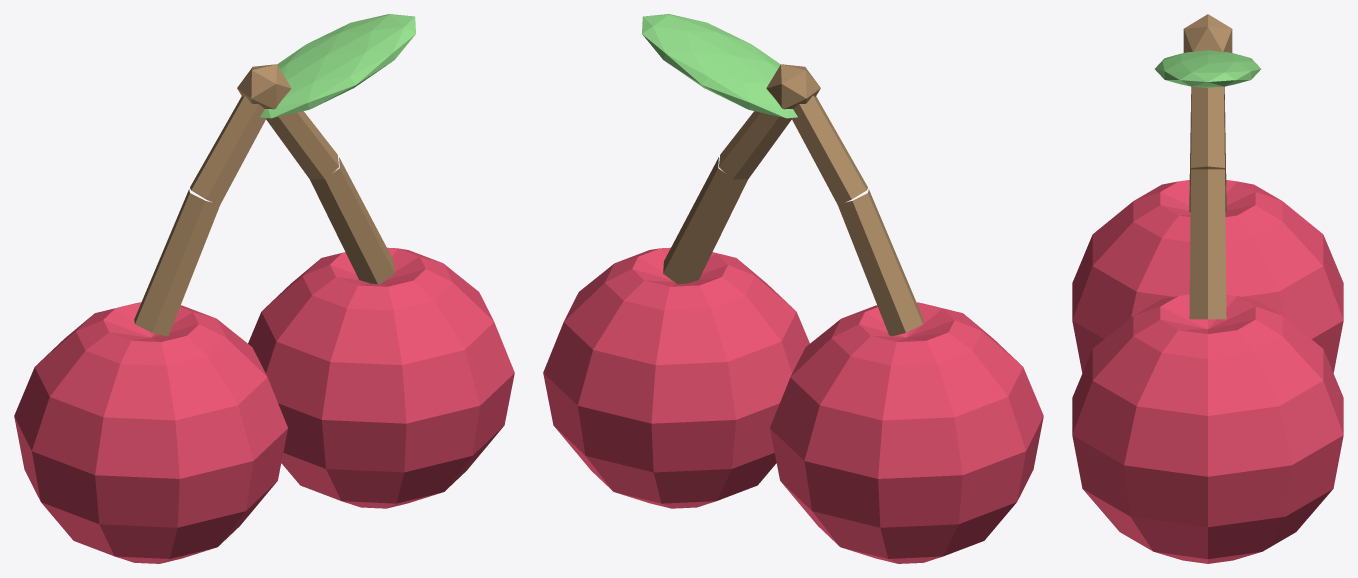
The model's file is CherryFruit.glb.
3 renders of one model, left to right at view 1: azimuth 30°, elevation 25°; view 2: azimuth 150°, elevation 25°; view 3: azimuth 270°, elevation 25°, orthographic. The views are drawn at different scales.
Parts seen in each view (by area): view 1: CherryFruit_CherryBody, CherryFruit_CherryStem, CherryFruit_CherryLeaf; view 2: CherryFruit_CherryBody, CherryFruit_CherryStem, CherryFruit_CherryLeaf; view 3: CherryFruit_CherryBody, CherryFruit_CherryStem, CherryFruit_CherryLeaf.
Part boxes in pixels (<box>): CherryFruit_CherryBody: <box>14,247,514,563</box>; CherryFruit_CherryStem: <box>134,64,394,336</box>; CherryFruit_CherryLeaf: <box>260,14,415,118</box>; CherryFruit_CherryBody: <box>543,247,1043,563</box>; CherryFruit_CherryStem: <box>663,64,923,336</box>; CherryFruit_CherryLeaf: <box>642,14,797,118</box>; CherryFruit_CherryBody: <box>1072,180,1343,563</box>; CherryFruit_CherryStem: <box>1183,14,1232,319</box>; CherryFruit_CherryLeaf: <box>1155,50,1260,87</box>.
Size of the model in its own units: 1.56 by 1.49 by 0.7608.
